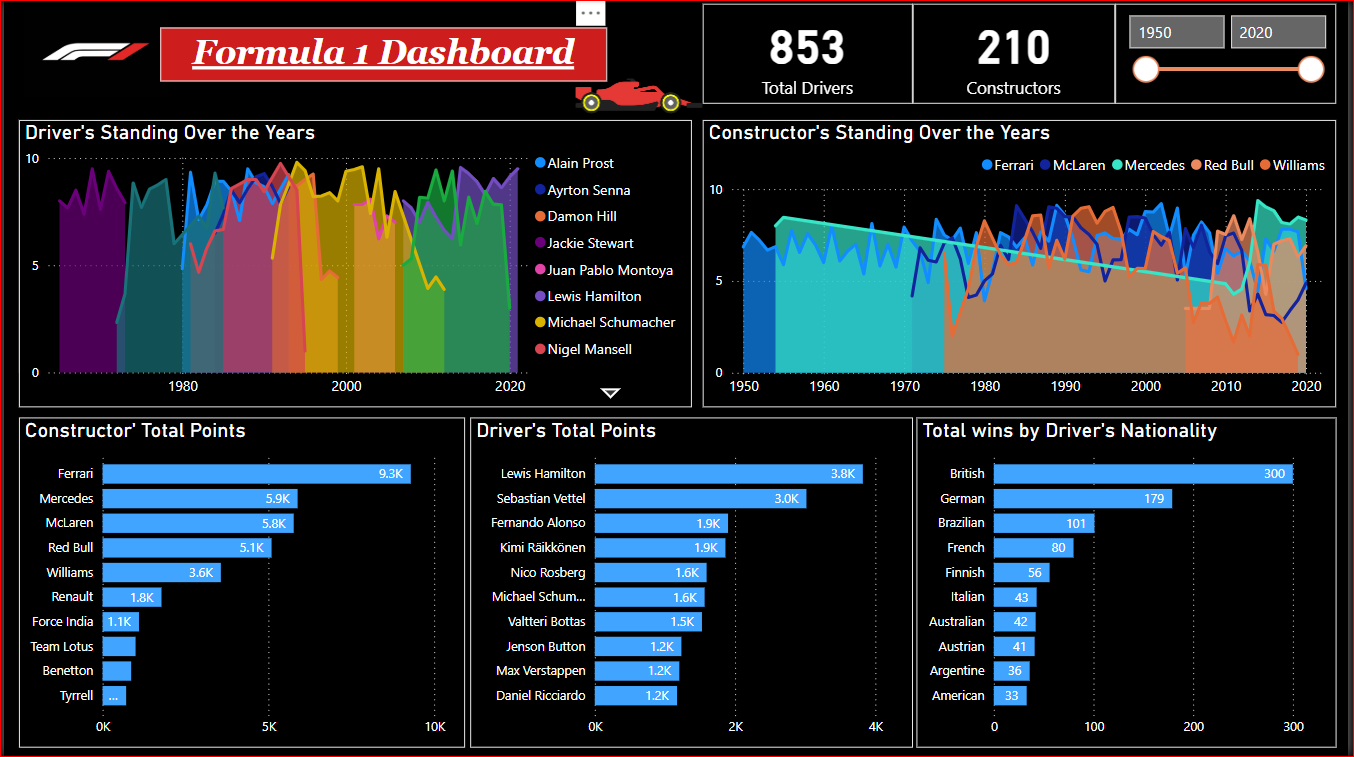

The dashboard page shown, as its layout file describes it:
{"tool":"powerbi","page":{"name":"Page 1","canvas":[1280,720],"ordinal":0},"visuals":[{"type":"barChart","title":"Driver''s Total Points","fields":{"Category":["driver_standings.driver_name"],"Y":["driver_standings.total_points"]},"box":[444,397.6,421.4,314.3],"z":0},{"type":"areaChart","title":"Driver''s Standing Over the Years","fields":{"Category":["dominant_driver.race_year"],"Y":["dominant_driver.avg_points"],"Series":["dominant_driver.driver_name"]},"box":[14.3,114.3,640.5,273.8],"z":1000},{"type":"areaChart","title":"Constructor''s Standing Over the Years","fields":{"Y":["dominant_team.avg_points"],"Series":["dominant_team.team_name"],"Category":["dominant_team.race_year"]},"box":[665.5,114.3,603.6,273.8],"z":2000},{"type":"image","box":[14.3,0,146.4,98.8],"z":3000},{"type":"textbox","box":[148.8,26.2,425,51.2],"z":4000},{"type":"slicer","fields":{"Values":["dominant_team.race_year"]},"box":[1058.3,3.6,210.7,95.2],"z":5000},{"type":"barChart","title":"Total wins by Driver''s Nationality","fields":{"Category":["driver_standings.driver_nationality"],"Y":["driver_standings.wins"]},"box":[869.1,397.6,400,314.3],"z":6000},{"type":"card","title":"hfxgf","fields":{"Values":["constructor_standings.team"]},"box":[865.5,3.6,192.9,95.2],"z":7000},{"type":"card","title":"hfxgf","fields":{"Values":["driver_standings.driver_name"]},"box":[665.5,3.6,200,95.2],"z":8000},{"type":"barChart","title":"Constructor'' Total Points","fields":{"Category":["constructor_standings.team"],"Y":["constructor_standings.total_points"]},"box":[14.3,397.6,425,314.3],"z":9000},{"type":"image","box":[454.8,26.2,300,131],"z":10000}]}

Visuals, with their boxes in screenshot pixels (x1, y1, x2, y2), scaled from the page's 1280x720 canvas onto the 1354x757 screenshot:
"Driver''s Total Points" barChart: locate(470, 418, 915, 748)
"Driver''s Standing Over the Years" areaChart: locate(15, 120, 693, 408)
"Constructor''s Standing Over the Years" areaChart: locate(704, 120, 1342, 408)
image: locate(15, 0, 170, 104)
textbox: locate(157, 28, 607, 81)
slicer - dominant_team.race_year: locate(1119, 4, 1342, 104)
"Total wins by Driver''s Nationality" barChart: locate(919, 418, 1342, 748)
"hfxgf" card: locate(916, 4, 1120, 104)
"hfxgf" card: locate(704, 4, 916, 104)
"Constructor'' Total Points" barChart: locate(15, 418, 465, 748)
image: locate(481, 28, 798, 165)
